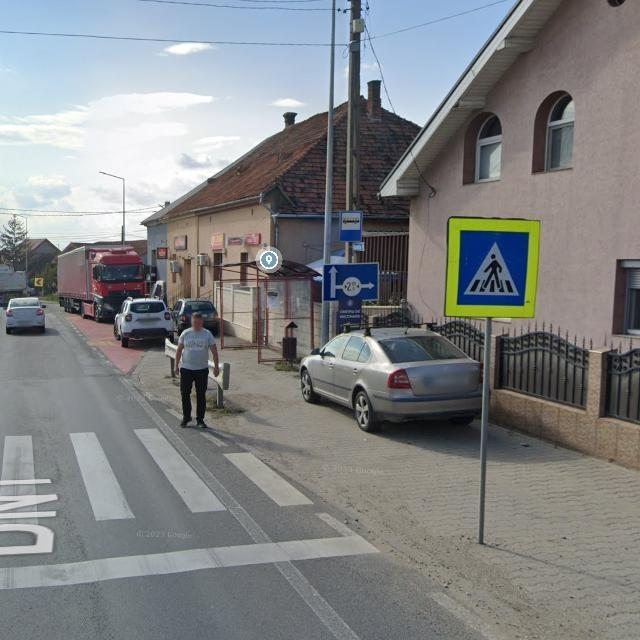info_crosswalk: (444, 216, 541, 318)
